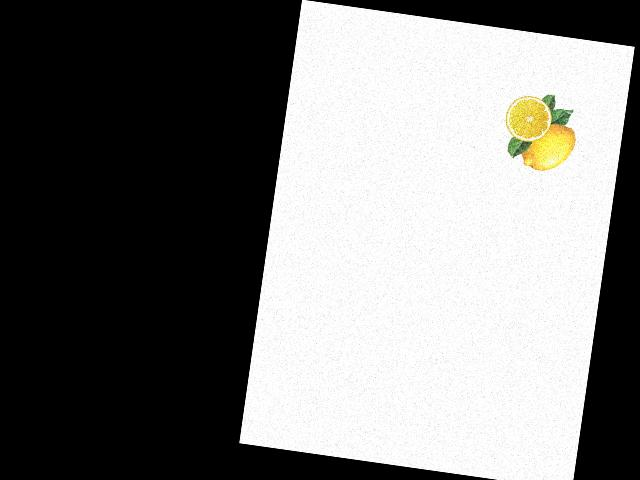lemon: (518, 117, 577, 173)
